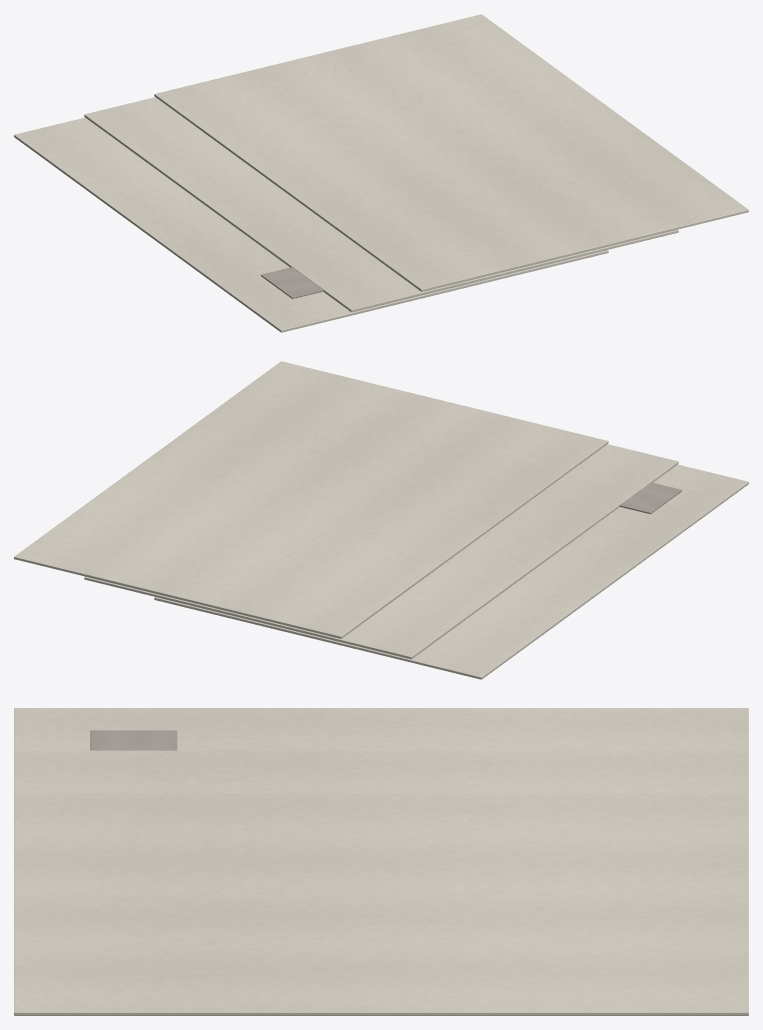
File: mission_paper_set.glb
3 views of the same model, one above another, from view 1: azimuth 30°, elevation 25°; view 2: azimuth 150°, elevation 25°; view 3: azimuth 270°, elevation 25° (orthographic). The views are drawn at different scales.
Parts seen in each view (by area): view 1: paper_02, paper_01, paper_00, title_placeholder; view 2: paper_02, paper_01, paper_00, title_placeholder; view 3: paper_02, paper_01, paper_00, title_placeholder.
Boxes of the visible parts, x1,y1,x2,y2 form: paper_02: (154,14,748,291); paper_01: (84,97,678,312); paper_00: (14,117,608,332); title_placeholder: (261,267,323,298); paper_02: (14,361,608,638); paper_01: (84,444,678,659); paper_00: (154,464,748,679); title_placeholder: (619,482,681,514); paper_02: (14,793,748,1015); paper_01: (14,750,748,793); paper_00: (14,708,748,750); title_placeholder: (90,730,177,750).
Size of the model in its own units: 0.3 by 0.0055 by 0.297.
Materials: 2 (2 with a texture image).
